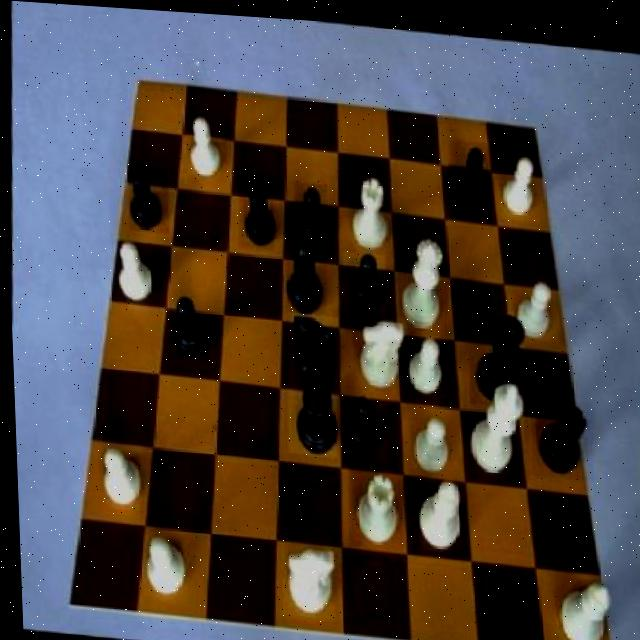bishop: (282, 233, 328, 310)
black-bishop: (282, 364, 336, 454)
black-king: (286, 308, 339, 392)
black-knight: (338, 383, 384, 455), (165, 285, 210, 358), (446, 134, 491, 203), (339, 246, 385, 313), (235, 169, 274, 247), (126, 164, 169, 233), (292, 178, 327, 248)
black-pawn: (463, 297, 529, 402)
black-queen: (526, 390, 592, 473)
black-rook: (546, 569, 612, 640), (413, 470, 463, 549)
white-bishop: (461, 368, 525, 478)
white-king: (273, 528, 331, 616), (351, 307, 407, 388)
white-knight: (135, 530, 186, 600), (400, 408, 452, 474), (108, 238, 157, 308), (493, 149, 542, 217), (93, 449, 144, 514), (396, 327, 442, 398), (510, 269, 559, 335), (183, 111, 227, 182)
white-pawn: (391, 229, 449, 332)
white-queen: (343, 465, 404, 548), (344, 170, 390, 250)
